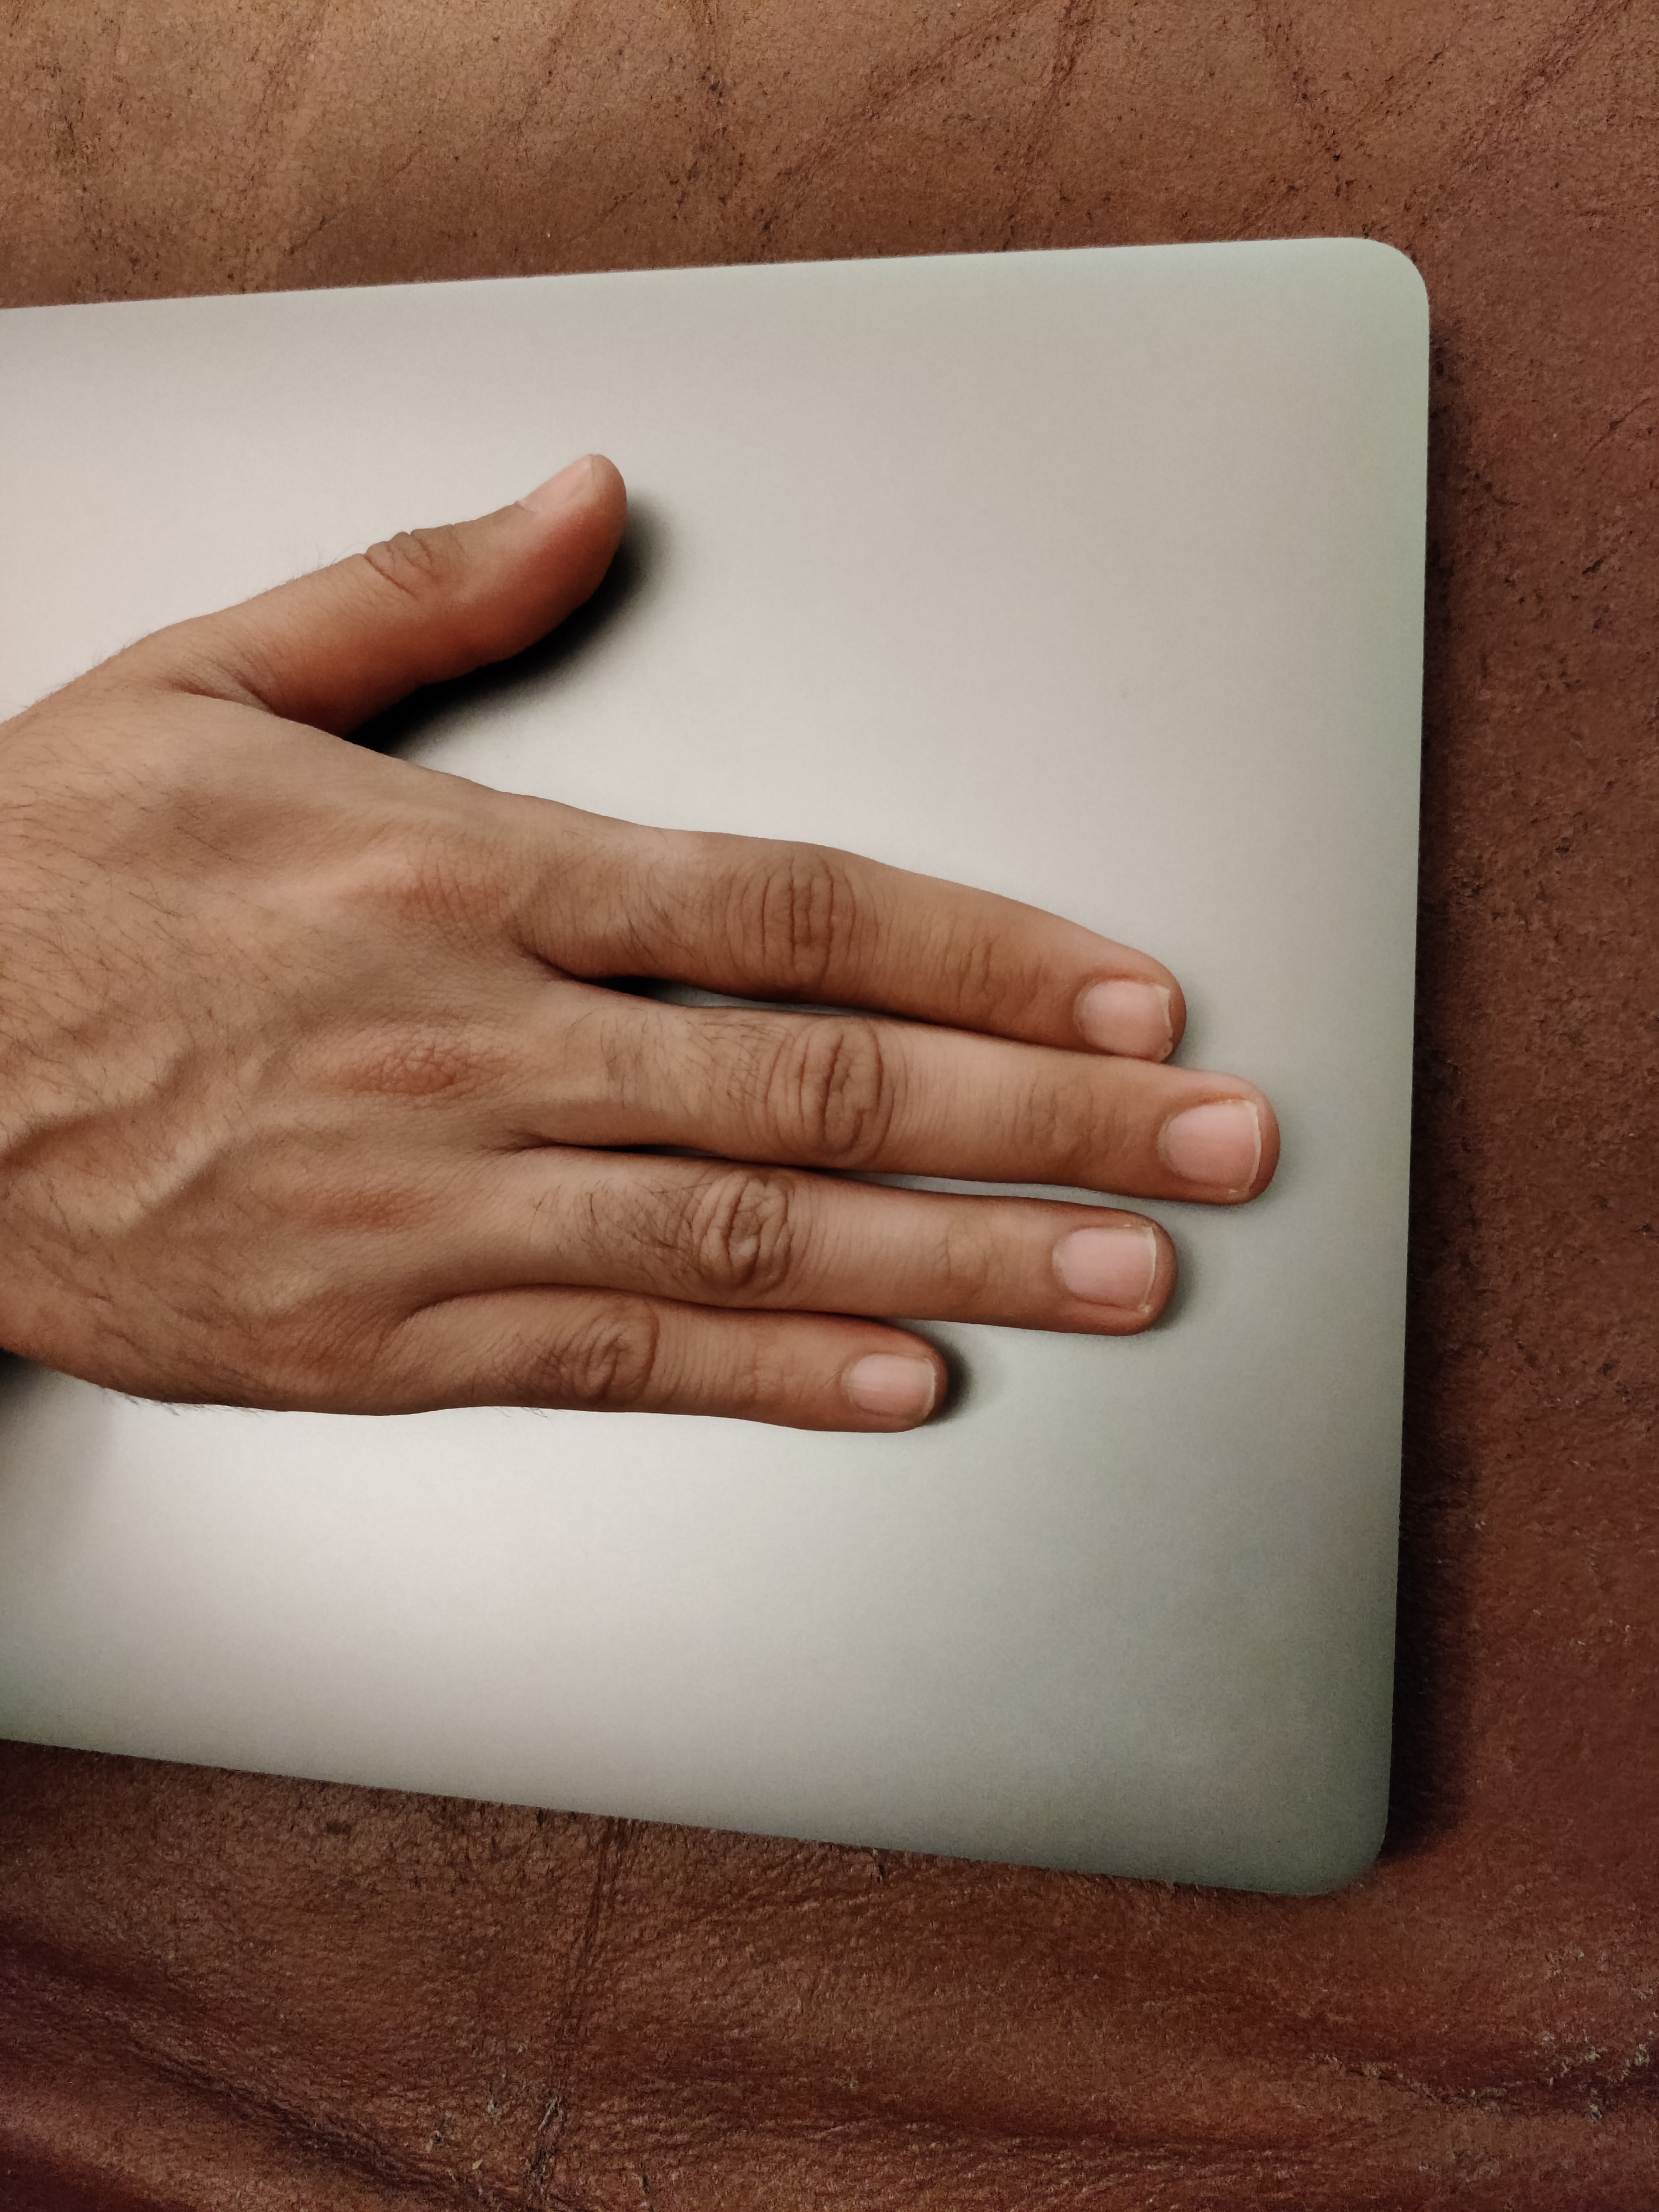left: (12, 246, 1509, 1627)
